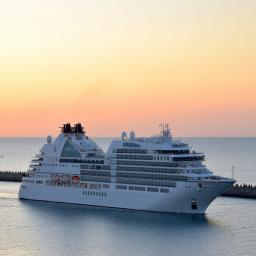cruises: (17, 119, 240, 220)
